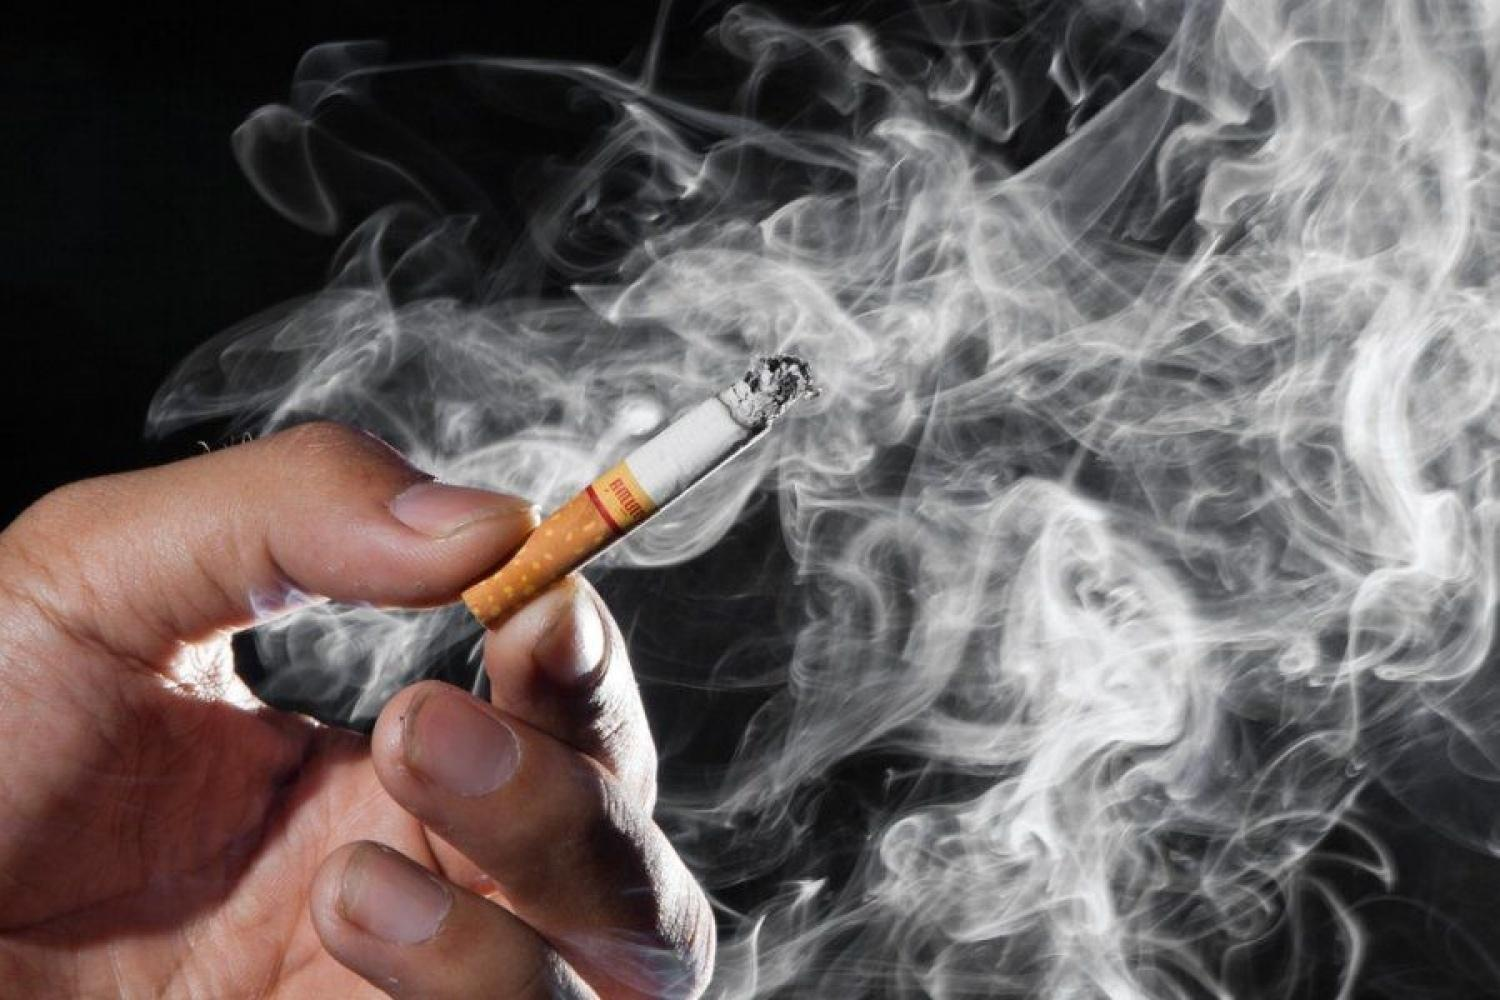cigarette: (463, 354, 814, 627)
